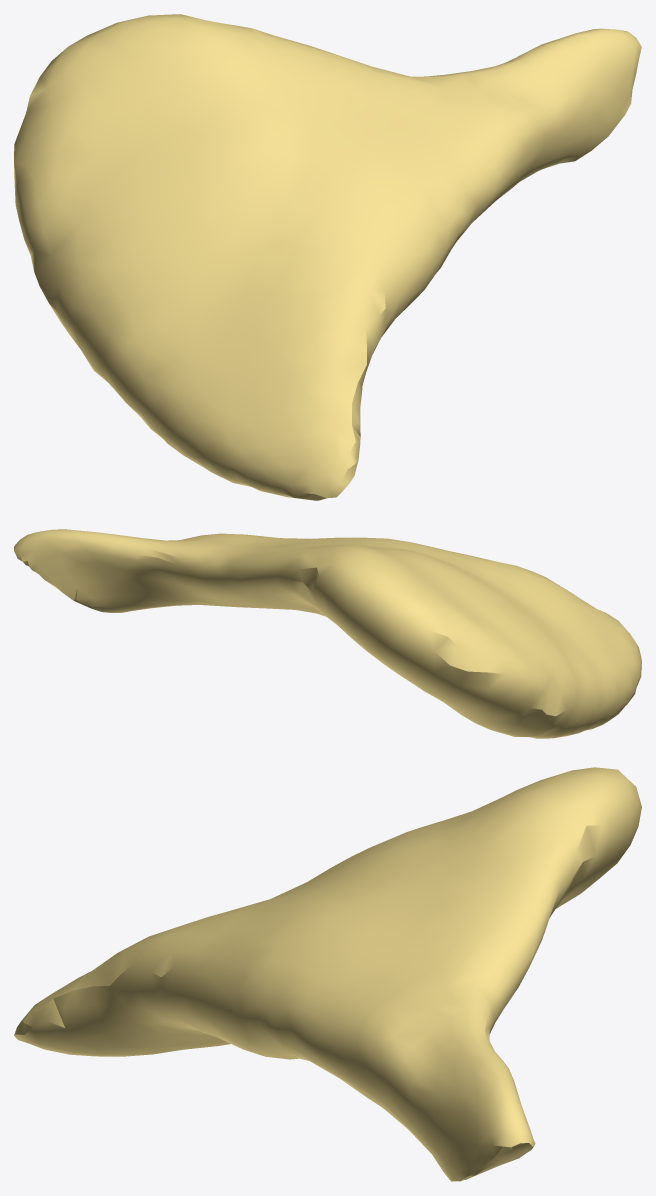
The model's file is fma72918_mm3326m.glb.
3 renders of one model, top to bottom at view 1: azimuth 30°, elevation 25°; view 2: azimuth 150°, elevation 25°; view 3: azimuth 270°, elevation 25°, orthographic. The views are drawn at different scales.
Parts seen in each view (by area): view 1: FMA72918_MM3326M; view 2: FMA72918_MM3326M; view 3: FMA72918_MM3326M.
Boxes of the visible parts, box(x1,y1,x2,y2) form: FMA72918_MM3326M: box(14, 14, 641, 500); FMA72918_MM3326M: box(14, 529, 641, 738); FMA72918_MM3326M: box(14, 767, 641, 1181).
Size of the model in its own units: 0.0271 by 0.012 by 0.0214.
